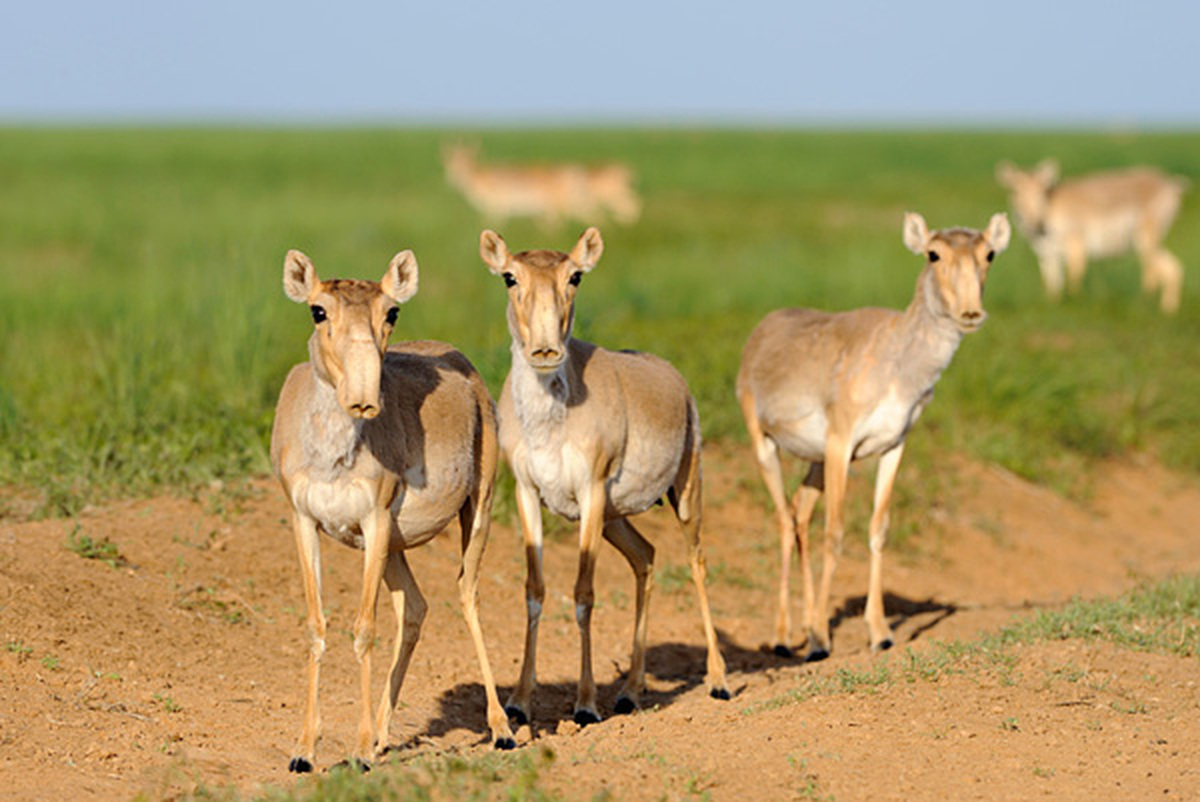saiga: (471, 219, 791, 727), (729, 189, 1017, 654), (261, 244, 521, 752)
